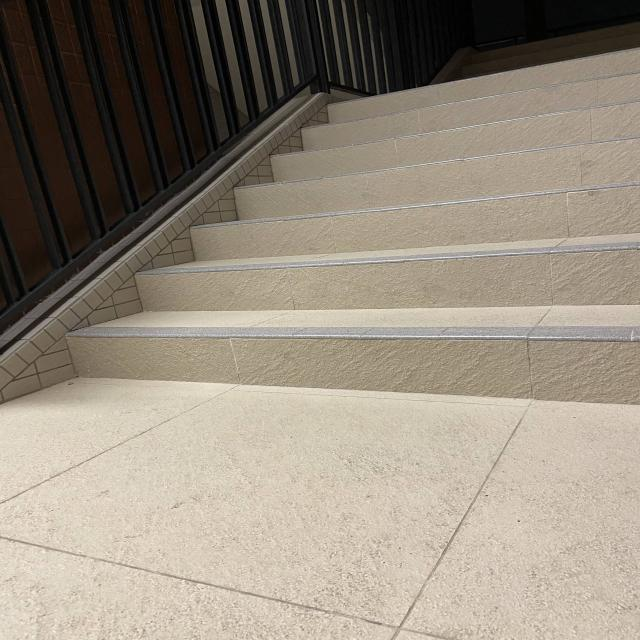Stairs: (91, 45, 640, 407)
